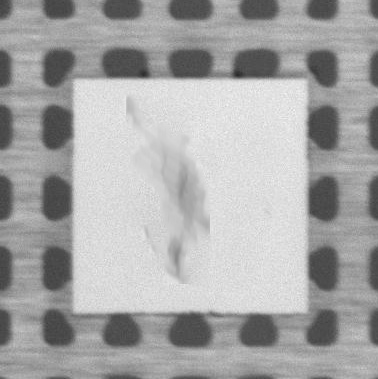DIE_INK: (132, 159, 208, 283), (121, 94, 193, 161)
